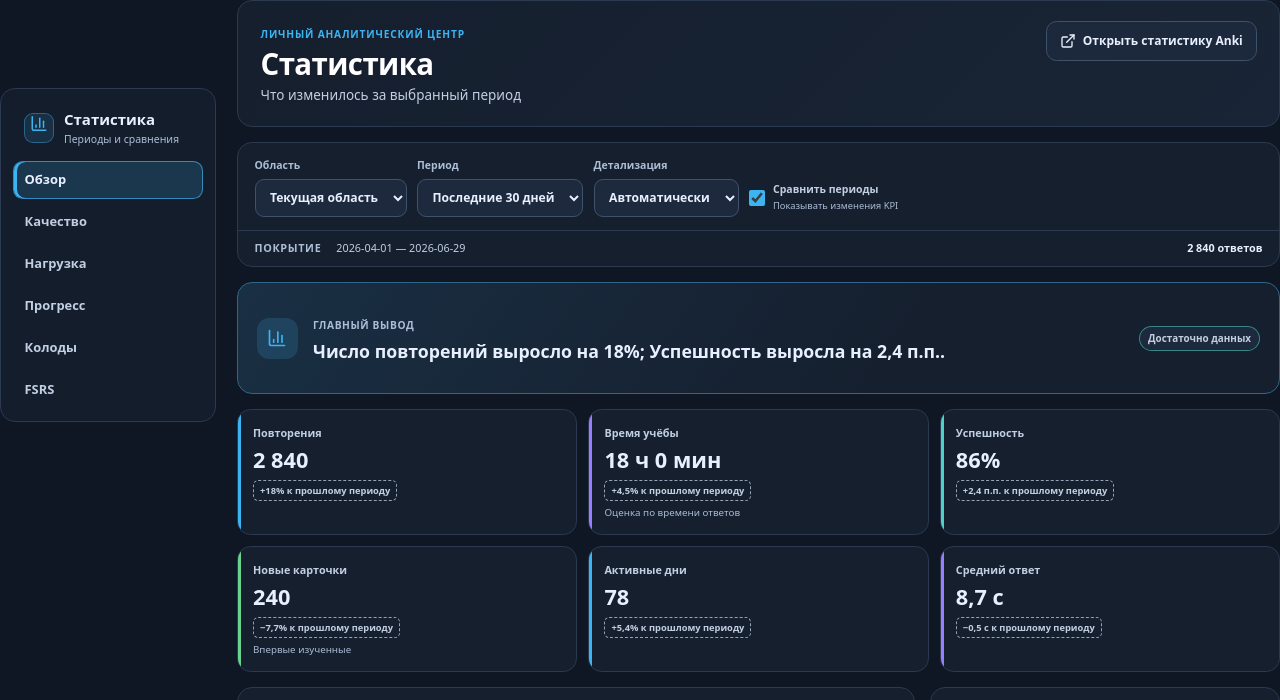
Statistics visual system › keeps current content while loading and retries errors
Select "Последние 30 дней" in the dropdown labelled "Период" at [500, 198], box left=417, top=179, right=583, bottom=217
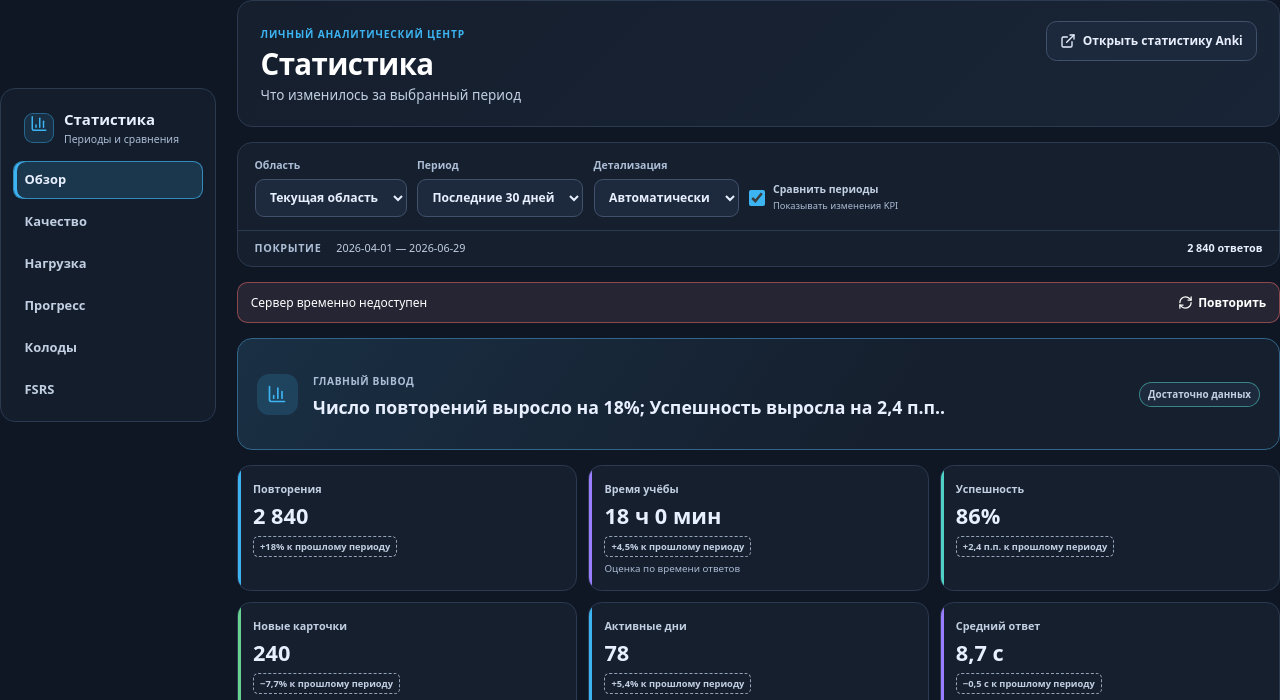
Now the text "Сервер временно недоступен" is shown, box left=251, top=294, right=427, bottom=312
Click the button "Повторить".
click(1222, 303)  # box left=1178, top=294, right=1266, bottom=312
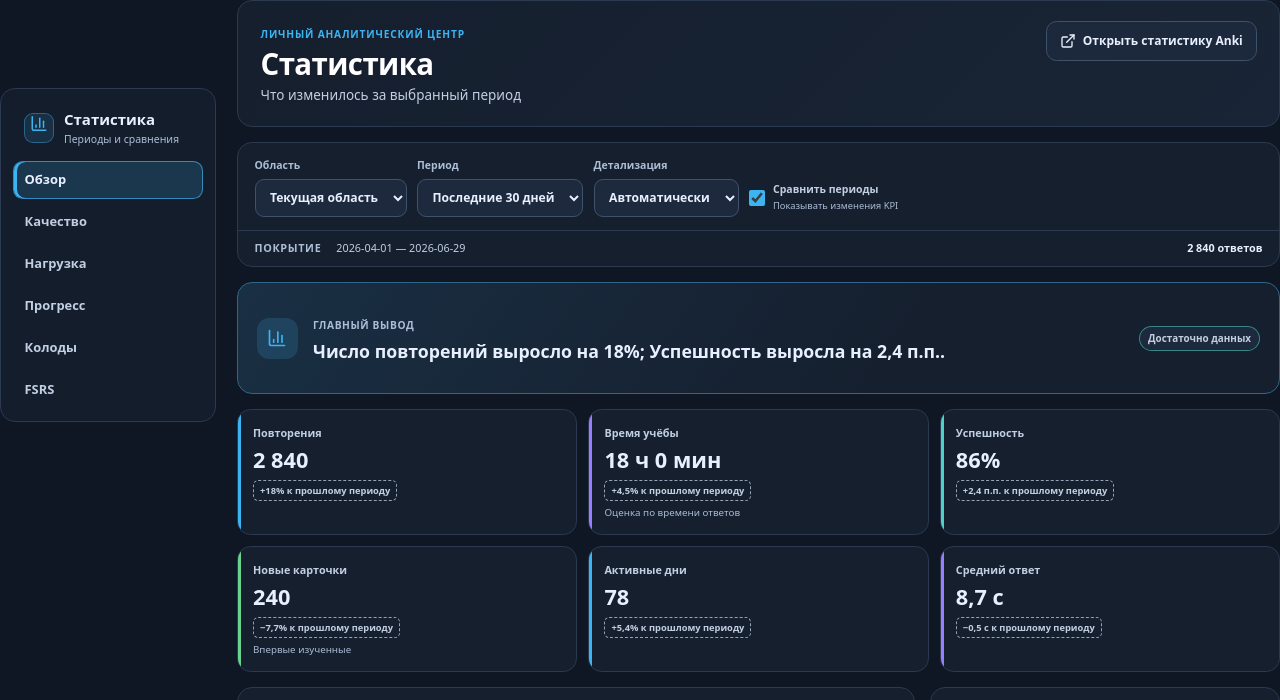
Now the text "Сервер временно недоступен" is gone
